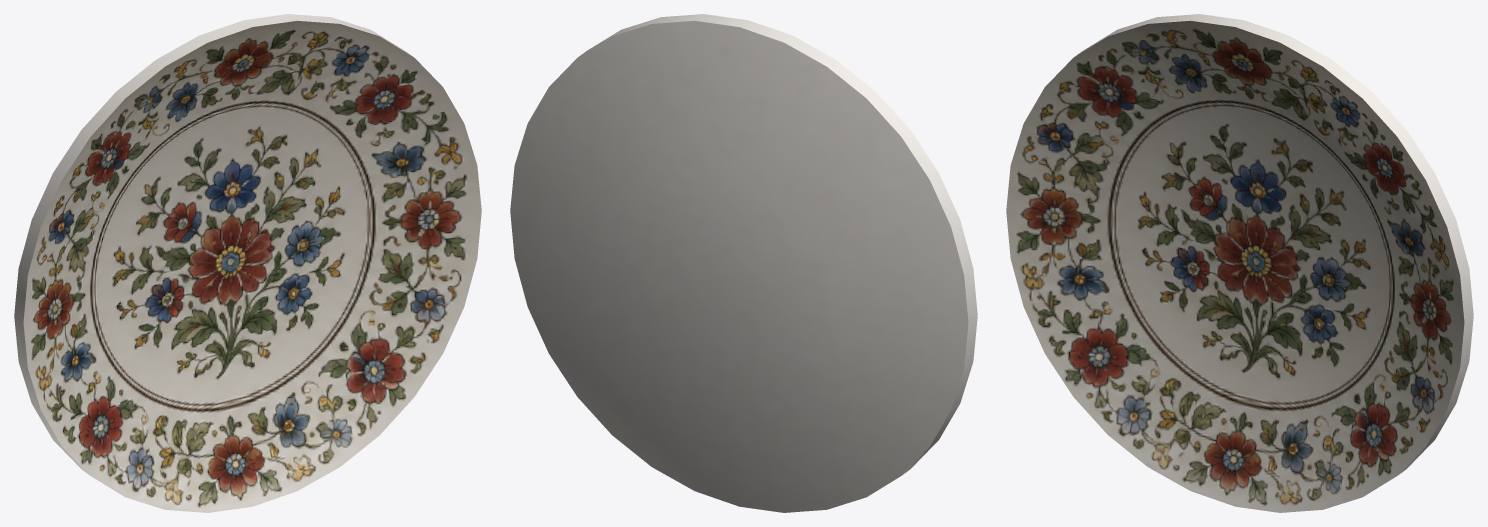
The model's file is Piring1.fbx.
3 renders of one model, left to right at view 1: azimuth 30°, elevation 25°; view 2: azimuth 150°, elevation 25°; view 3: azimuth 330°, elevation 25°, orthographic.
Visible parts, largest first — view 1: Piring; view 2: Piring; view 3: Piring.
Part boxes in pixels (<box>): Piring: <box>14,14,481,512</box>; Piring: <box>510,14,977,512</box>; Piring: <box>1006,14,1473,512</box>.
Bounding box in the file's own units: 60.57 × 60.57 × 6.22.
Materials: 1 (1 with a texture image).
